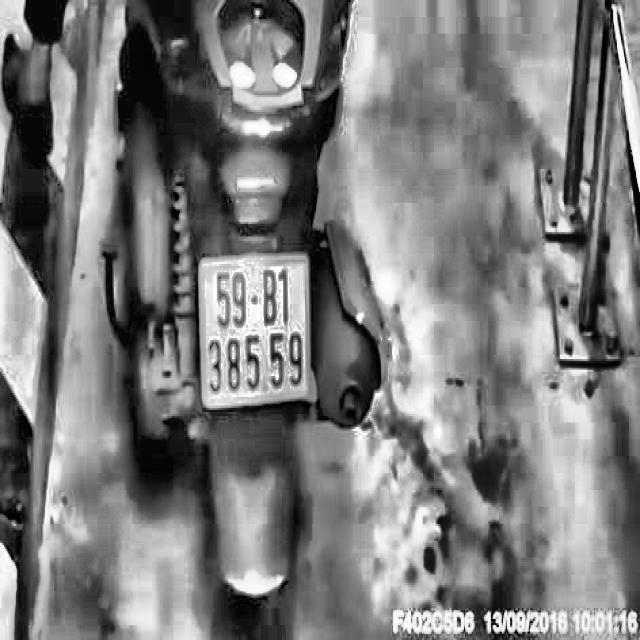plate: (192, 243, 317, 417)
